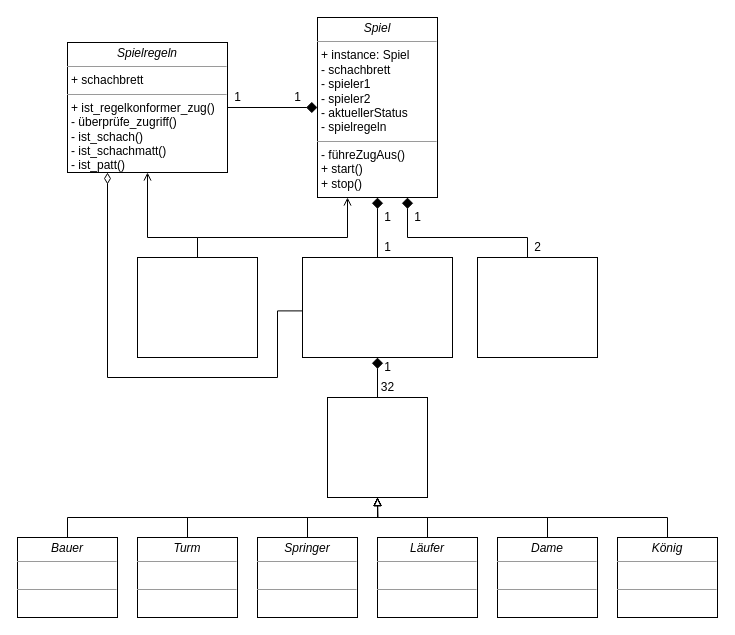
Image size: 735x635. Some labels were removed from this diagram. Each missing label, with the centre of its shape:
Schachbrett + positionen: Liste + entferne_schachfigur() + suche_schachfigur(): point 377,307
Schachfigur + position + farbe + bewege(): point 377,447
Spieler + name + farbe: point 537,307
Zug + startPosition + endPosition + schachfigur: point 197,307
